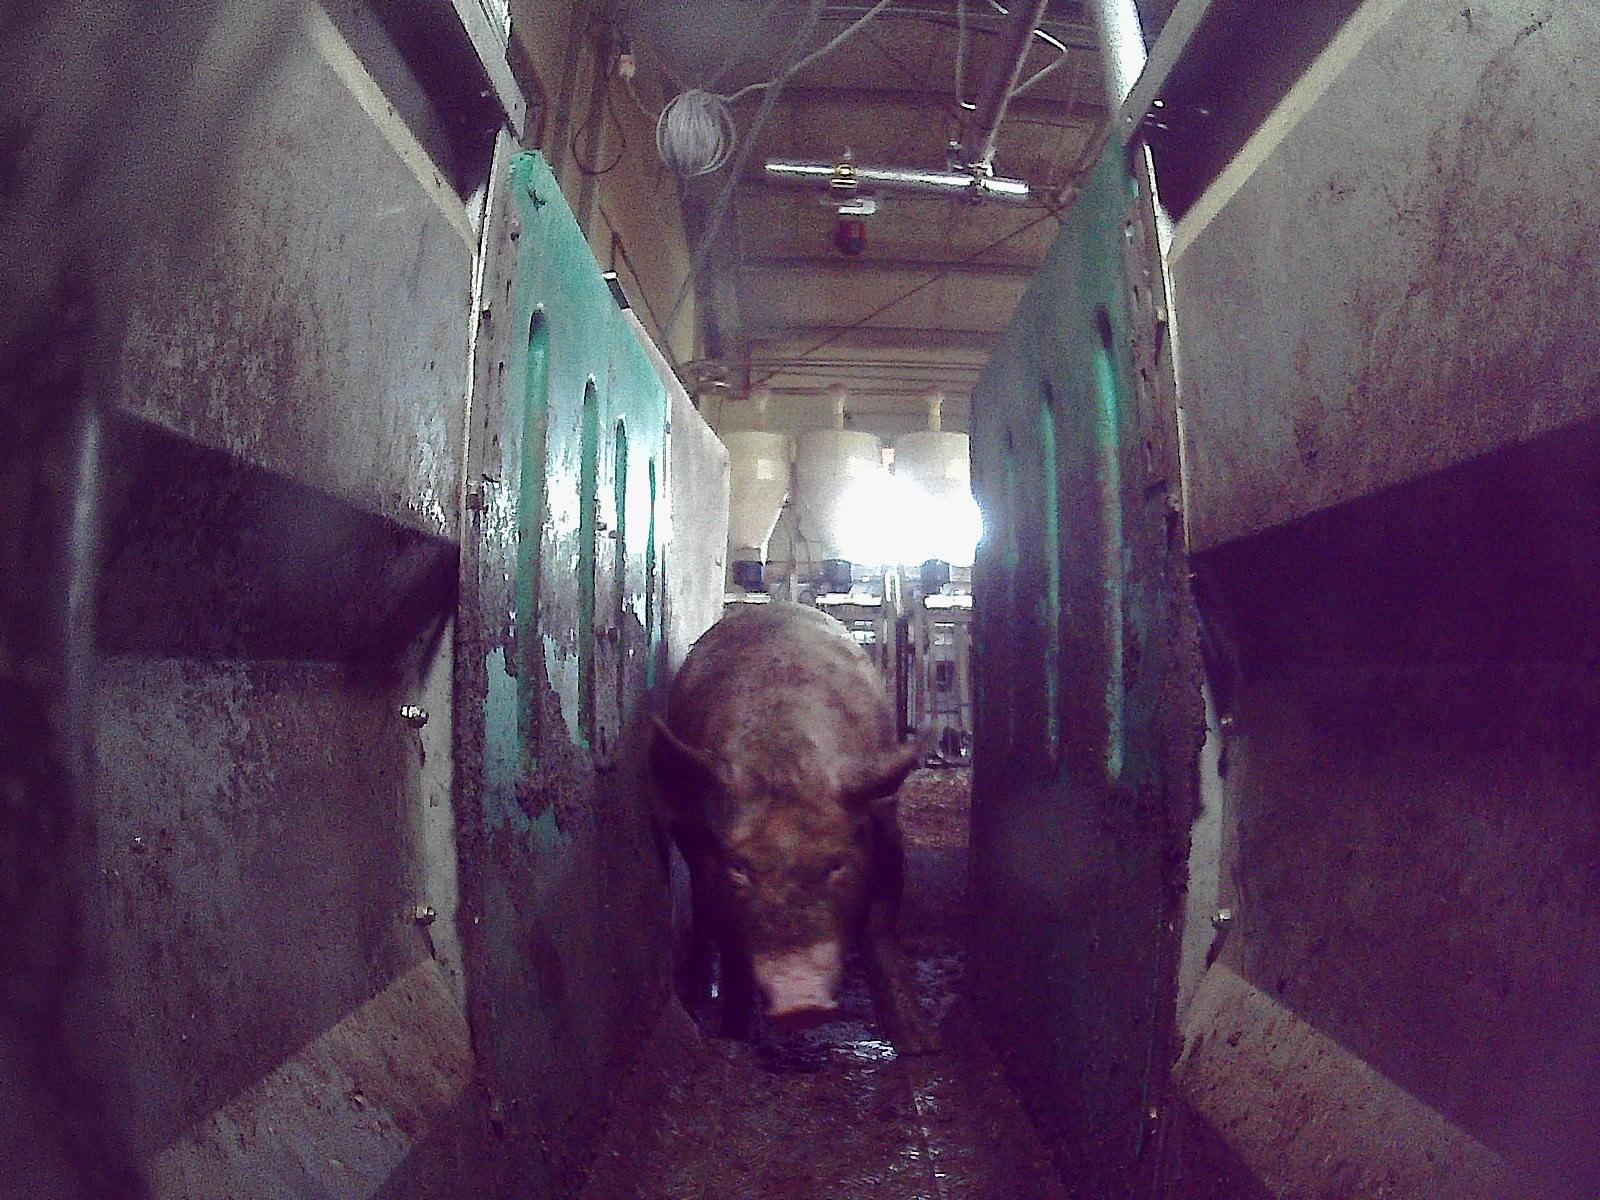Face: (692, 765, 875, 1027)
